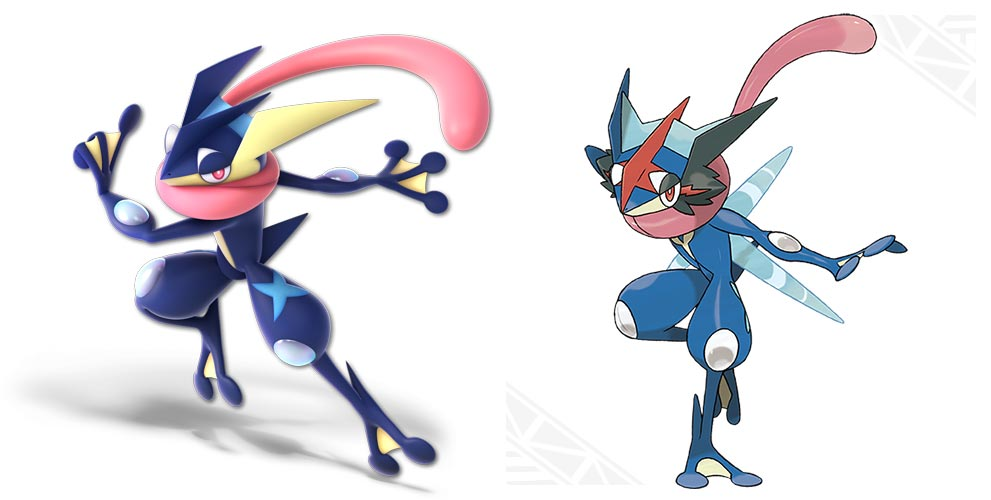greninja: (63, 30, 502, 479), (578, 11, 916, 491)
